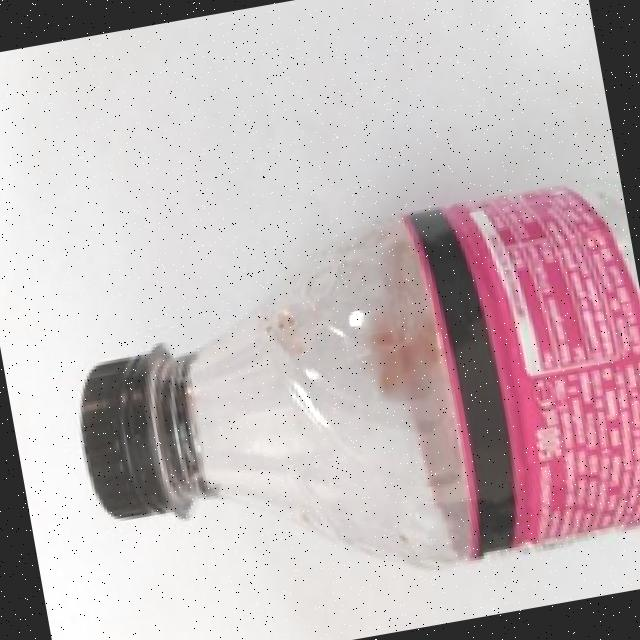bottle: (25, 159, 640, 640)
cap: (63, 332, 193, 536)
label: (384, 157, 640, 580)
